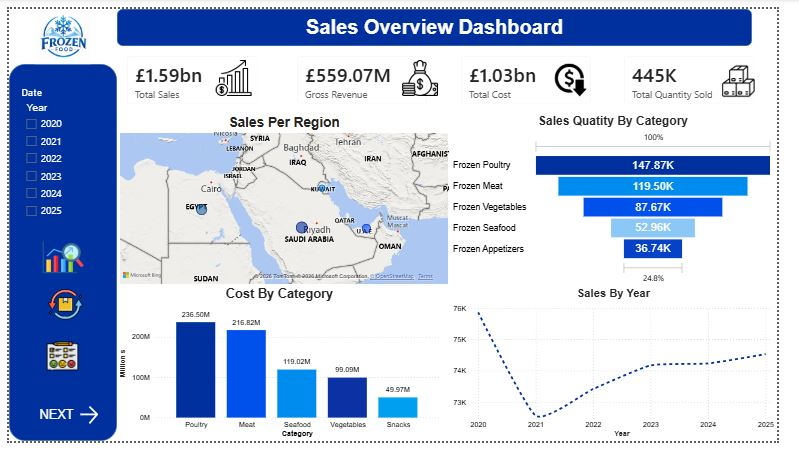

The dashboard page shown, as its layout file describes it:
{"tool":"powerbi","page":{"name":"Page 2","canvas":[1280,720],"ordinal":1},"visuals":[{"type":"shape","box":[0,91.7,180,628.3],"z":0},{"type":"shape","box":[180,0,1058.3,61.7],"z":1000},{"type":"cardVisual","fields":{"Data":["Table.Total Cost"]},"box":[736.7,61.7,250,113.3],"z":2000},{"type":"cardVisual","fields":{"Data":["Table.Total Quantity Sold"]},"box":[1008.3,61.7,251.7,113.3],"z":3000},{"type":"cardVisual","fields":{"Data":["Table.Total Revenue"]},"box":[463.3,61.7,250,113.3],"z":4000},{"type":"cardVisual","fields":{"Data":["Table.Total Sales"]},"box":[180,61.7,251.7,113.3],"z":5000},{"type":"map","title":"Sales Per Region","fields":{"Category":["Dim_Locations.Country"],"Size":["CountNonNull(Fact_Sales.SalesID)"]},"box":[180,175,556.7,288.3],"z":6000},{"type":"lineChart","title":"Sales By Year","fields":{"Category":["Fact_Sales.Date.Variation.Date Hierarchy.Year"],"Y":["Sum(Fact_Sales.Quantity_Tons)"]},"box":[735,463.3,545,256.7],"z":7000},{"type":"funnel","title":"Sales Quatity By Category","fields":{"Category":["Dim_Products.ProductName"],"Y":["Sum(Fact_Sales.Quantity_Tons)"]},"box":[735,175,543.3,288.3],"z":8000},{"type":"slicer","title":"Date","fields":{"Values":["Fact_Sales.Date.Variation.Date Hierarchy.Year"]},"box":[15,128.3,150,243.3],"z":9000},{"type":"clusteredColumnChart","title":"Cost By Category","fields":{"Category":["Dim_Products.Category"],"Y":["Table.Total Cost"]},"box":[180,463.3,541.7,256.7],"z":10000},{"type":"actionButton","box":[5,656.7,168.3,40],"z":11000},{"type":"image","box":[343.3,85,61.7,60],"z":12000},{"type":"image","box":[640,85,90,60],"z":13000},{"type":"image","box":[900,88.3,71.7,60],"z":14000},{"type":"image","box":[1171.7,91.7,88.3,56.7],"z":15000},{"type":"image","box":[45,380,90,68.3],"z":16000},{"type":"image","box":[46.7,463.3,95,58.3],"z":17000},{"type":"image","box":[36.7,551.7,105,53.3],"z":18000},{"type":"image","box":[0,0,180,91.7],"z":19000}]}

Visuals, with their boxes in screenshot pixels (x1, y1, x2, y2), scaled from the page's 1280x720 canvas onto the 799x453 screenshot:
shape: [left=0, top=58, right=112, bottom=452]
shape: [left=112, top=0, right=773, bottom=39]
cardVisual - Table.Total Cost: [left=460, top=39, right=616, bottom=110]
cardVisual - Table.Total Quantity Sold: [left=629, top=39, right=787, bottom=110]
cardVisual - Table.Total Revenue: [left=289, top=39, right=445, bottom=110]
cardVisual - Table.Total Sales: [left=112, top=39, right=269, bottom=110]
"Sales Per Region" map: [left=112, top=110, right=460, bottom=291]
"Sales By Year" lineChart: [left=459, top=291, right=798, bottom=452]
"Sales Quatity By Category" funnel: [left=459, top=110, right=798, bottom=291]
"Date" slicer: [left=9, top=81, right=103, bottom=234]
"Cost By Category" clusteredColumnChart: [left=112, top=291, right=450, bottom=452]
actionButton: [left=3, top=413, right=108, bottom=438]
image: [left=214, top=53, right=253, bottom=91]
image: [left=400, top=53, right=456, bottom=91]
image: [left=562, top=56, right=607, bottom=93]
image: [left=731, top=58, right=787, bottom=93]
image: [left=28, top=239, right=84, bottom=282]
image: [left=29, top=291, right=88, bottom=328]
image: [left=23, top=347, right=88, bottom=381]
image: [left=0, top=0, right=112, bottom=58]
